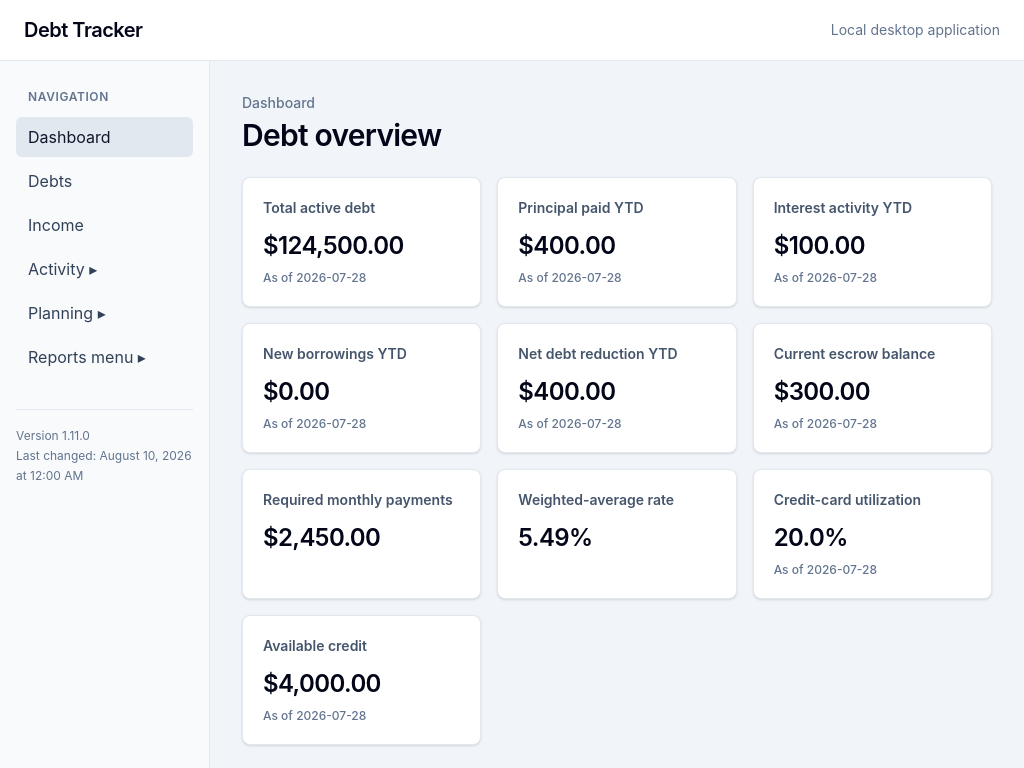
it: debt maintenance application › opens credit-card portfolio details from dashboard metrics
Click the button with aria-label "Credit-card utilization: 20.0%": (872, 534) [753,469,992,599]
(page scrolled)
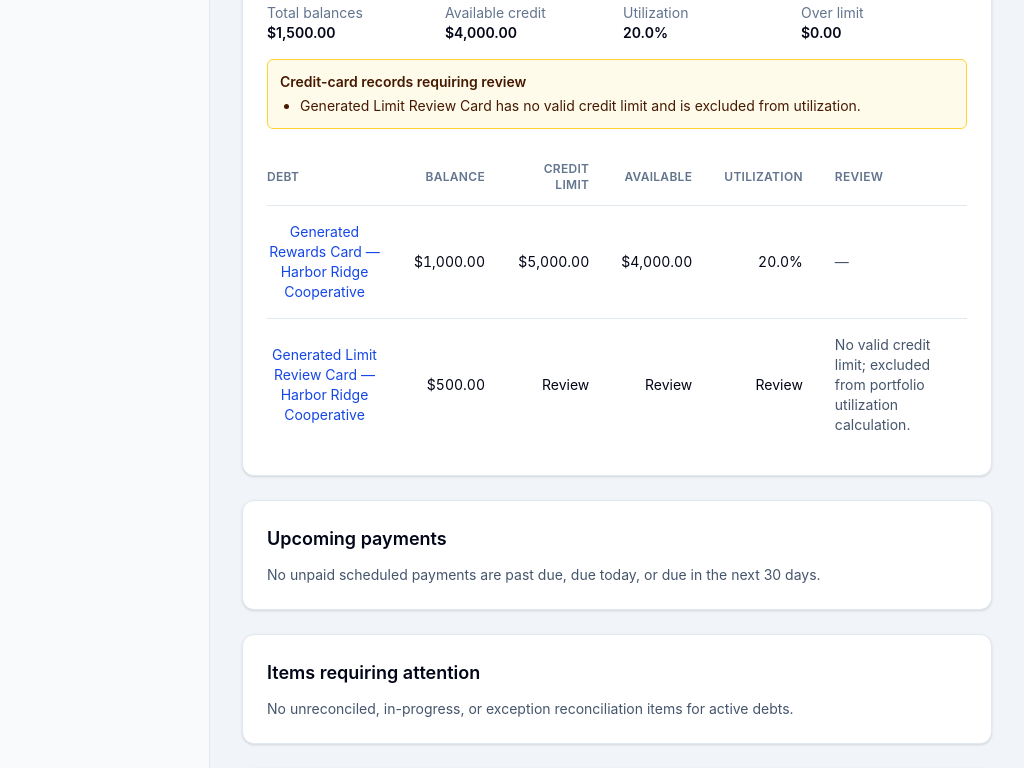
Check: the button "Generated Rewards Card — Harbor Ridge Cooperative" is shown, box [267,222,382,302]
Check: the list item "Generated Limit Review Card" is shown, box [300,97,861,114]
Check: the text "No valid credit limit; excluded from portfolio utilization calculation." is shown, box [819,318,967,451]
